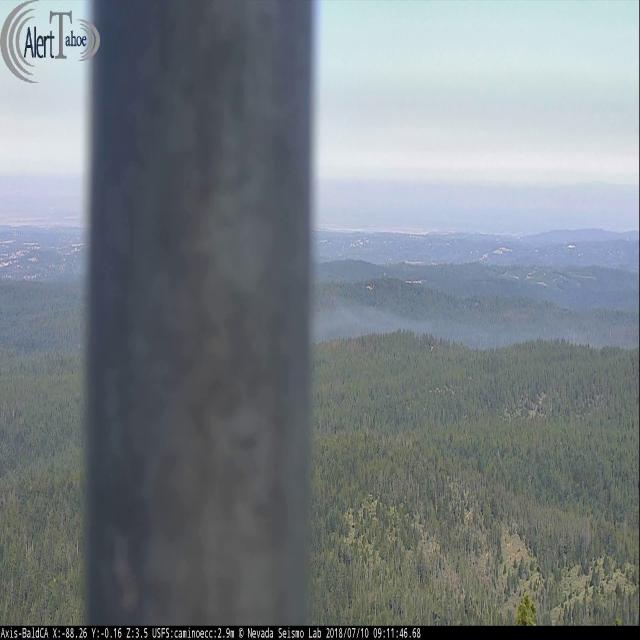smoke: (313, 298, 586, 342)
